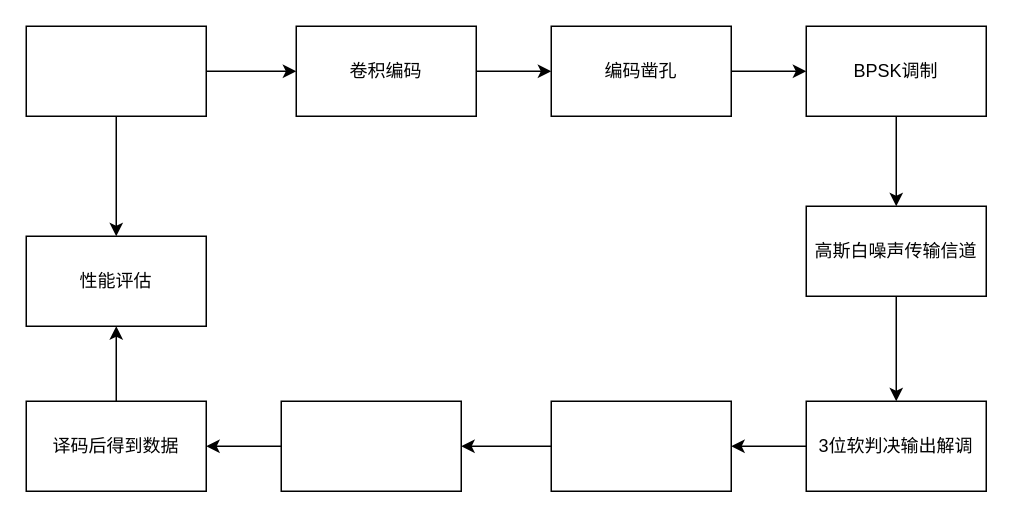
The diagram is 1013 pixels wide and 518 high, and some of its shapes have lost their labels. Here are the shapes that lost their labels. From the top down, the centre of each, then its label:
At point 115,70: "数据生成".
At point 370,445: "维特比译码".
At point 640,445: "反凿孔".
